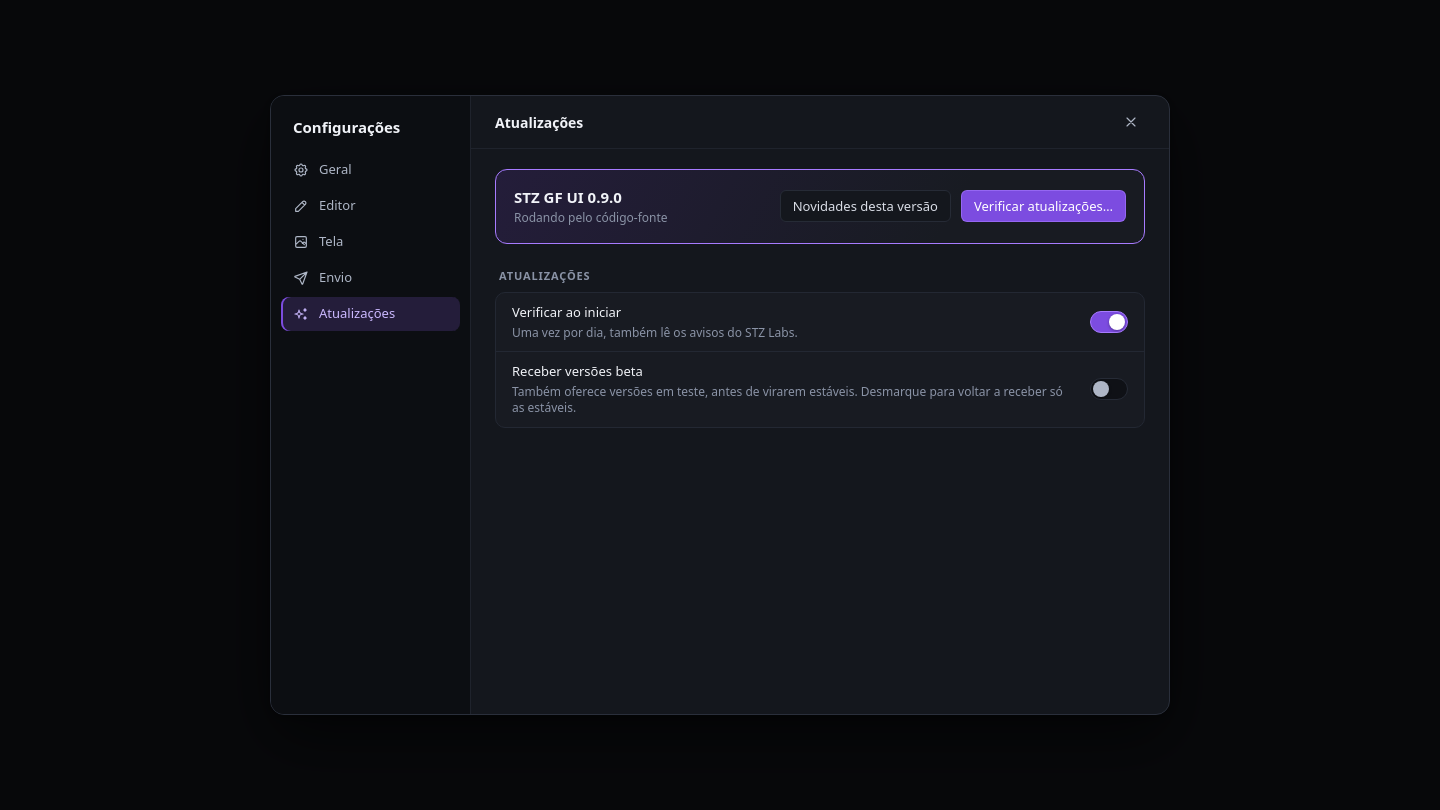
Test: tela de Configurações › erro da ponte volta o switch e avisa
The width and height of the screenshot is (1440, 810).
Click the switch named "auto_update_check": (1109, 322) [1090,311,1128,333]
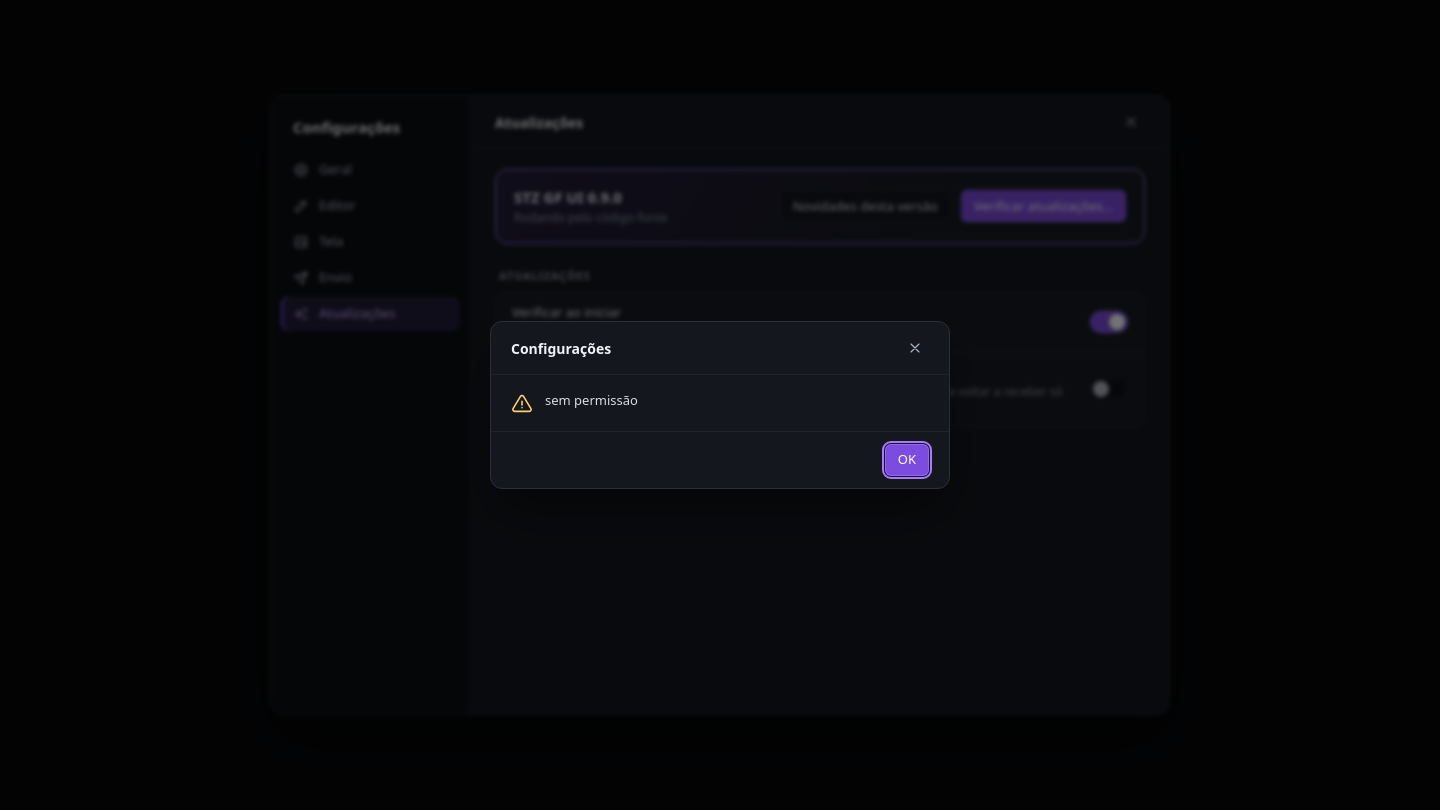
expect the text "sem permissão" is shown: met, box [545,391,638,409]
